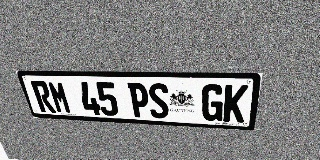4: (77, 81, 102, 115)
5: (95, 82, 119, 116)
G: (201, 84, 225, 121)
K: (223, 84, 249, 122)
M: (47, 81, 72, 114)
P: (127, 82, 150, 118)
R: (30, 81, 56, 113)
S: (147, 83, 169, 119)
